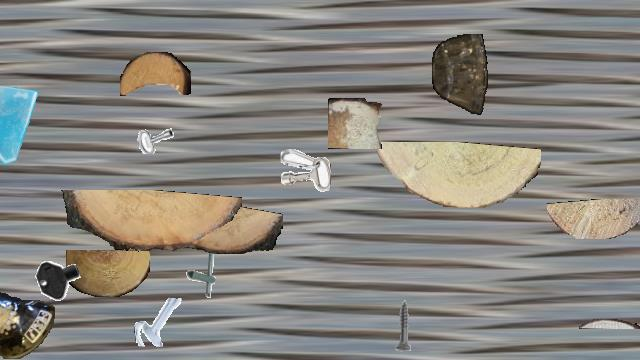glass: (0, 77, 51, 167)
metal: (376, 298, 430, 352), (124, 99, 178, 153), (178, 247, 230, 299), (33, 251, 85, 303), (280, 147, 330, 197), (134, 297, 184, 347)
plastic: (0, 247, 54, 359), (432, 34, 488, 116)
wood: (58, 190, 242, 252), (370, 142, 540, 208), (138, 202, 282, 254), (66, 250, 150, 296), (547, 199, 640, 239), (120, 52, 190, 96), (328, 98, 382, 148), (579, 319, 640, 329)
